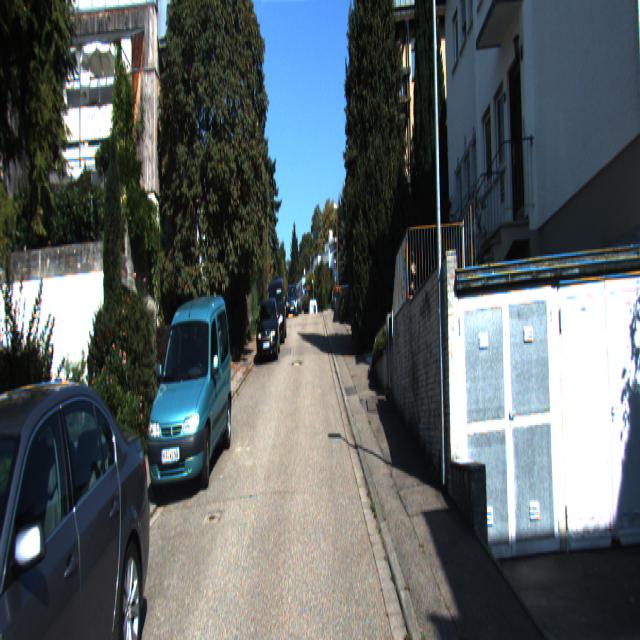Car: (0, 366, 162, 639), (142, 293, 234, 499), (256, 294, 280, 358), (265, 277, 287, 344)
